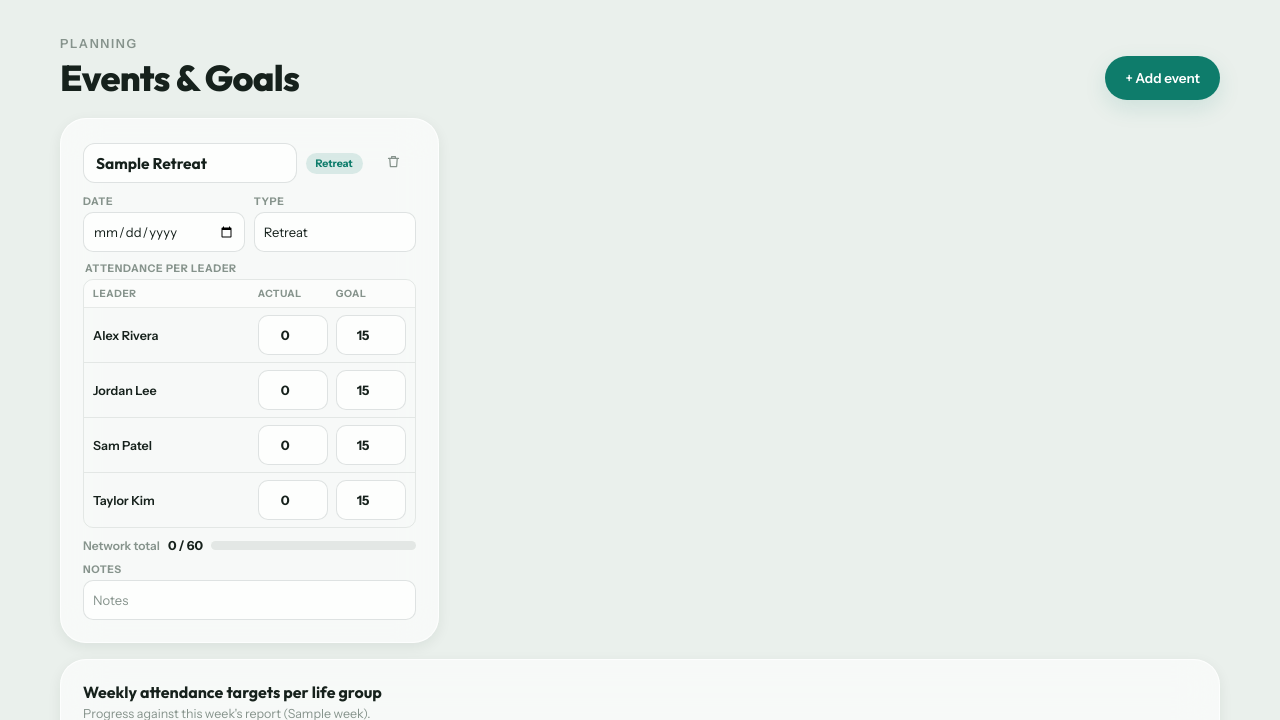
Test: EventsPage › adds a new event card
Expected: the field showing "Sample Retreat" is shown, [83, 143, 297, 183]
Click the button "+ Add event": [1163, 78] box [1105, 56, 1220, 100]
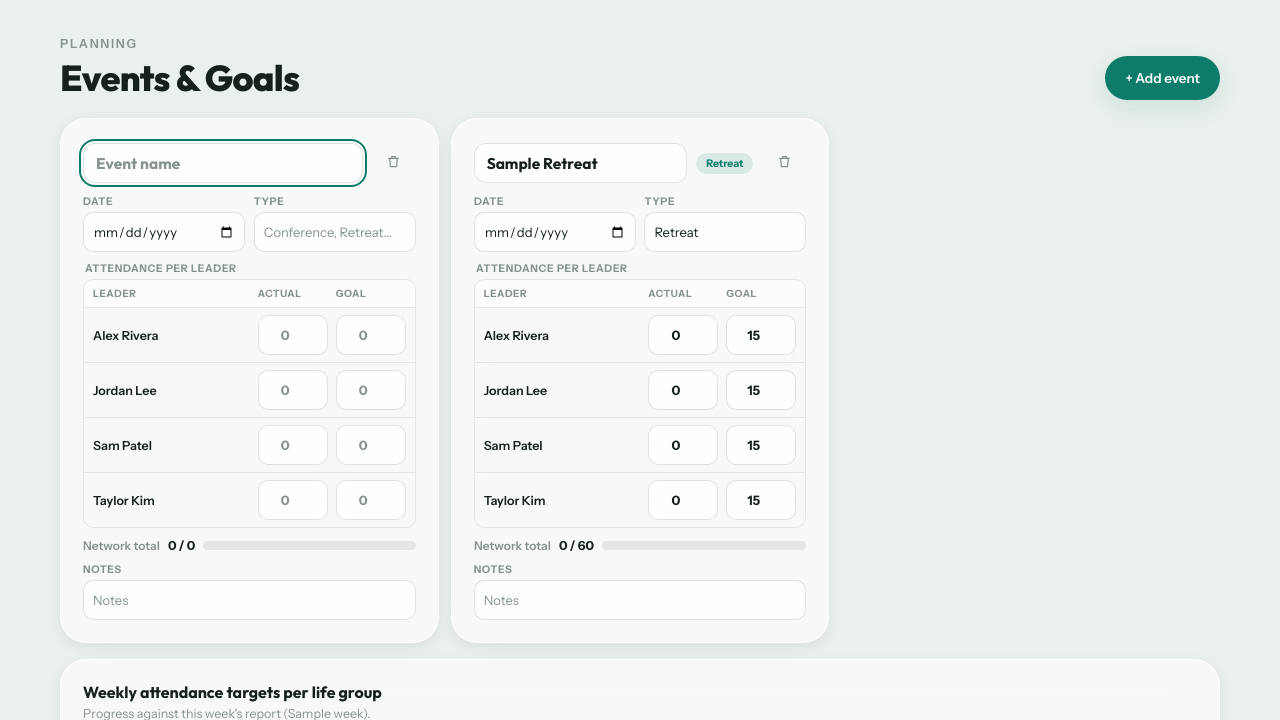
Now the number of fields labelled "Event name" is 2, box [83, 143, 363, 183]; [474, 143, 687, 183]
